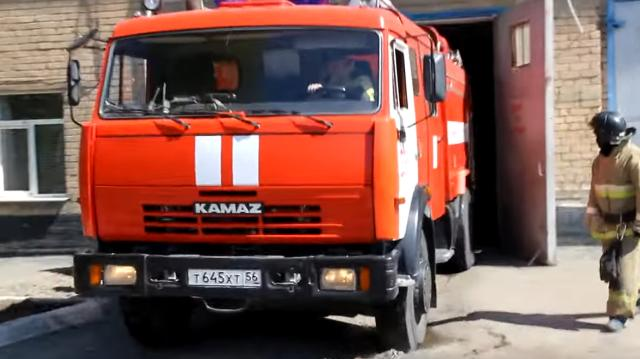fire fighting vehicle: (68, 1, 480, 351)
